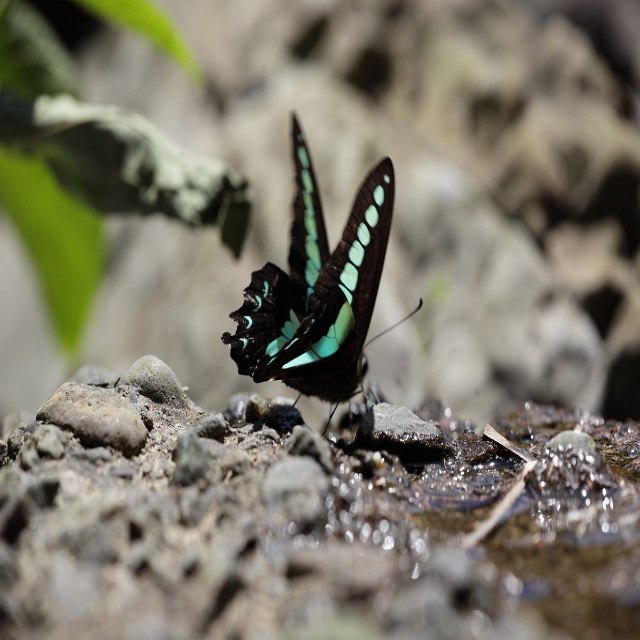Butterfly: (222, 108, 423, 434)
